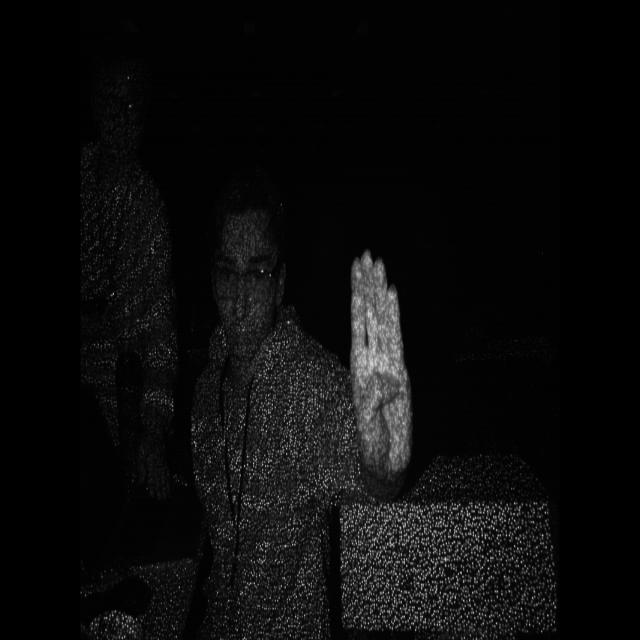B: (342, 239, 421, 497)
